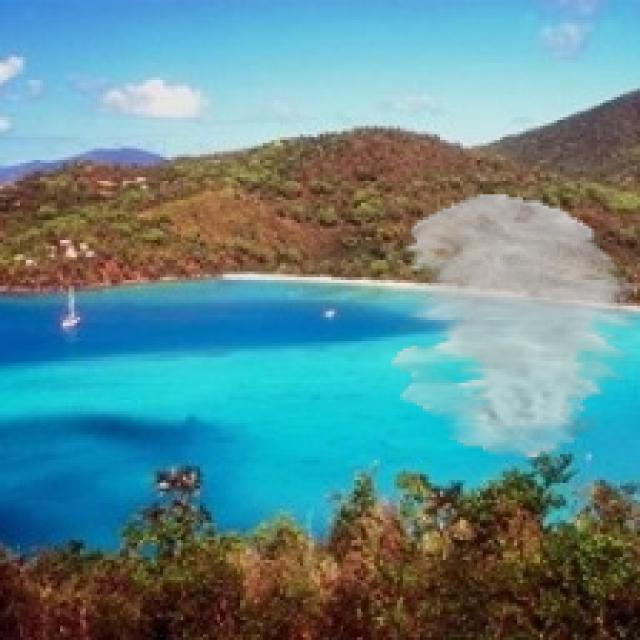smoke: (392, 194, 637, 460)
